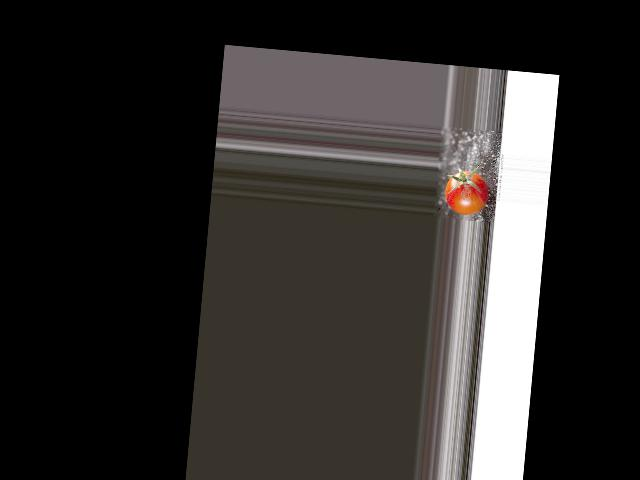tomato: (443, 168, 489, 216)
